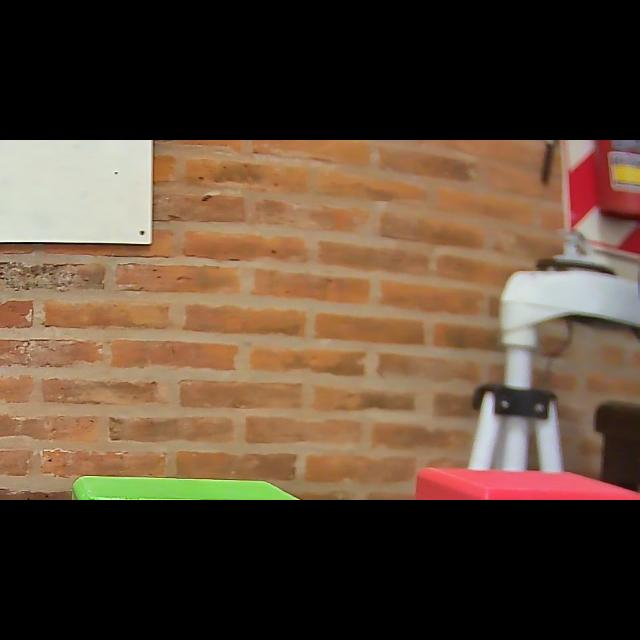greenBox: (64, 468, 318, 499)
redBox: (404, 456, 640, 500)
